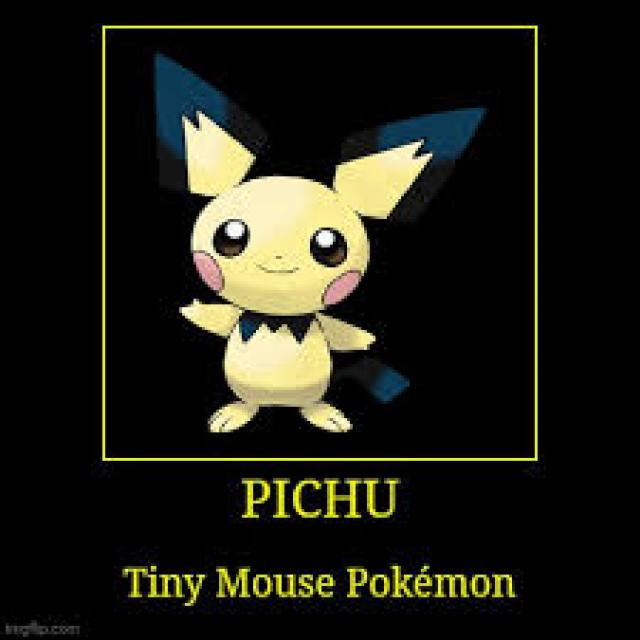pichu: (148, 54, 493, 454)
